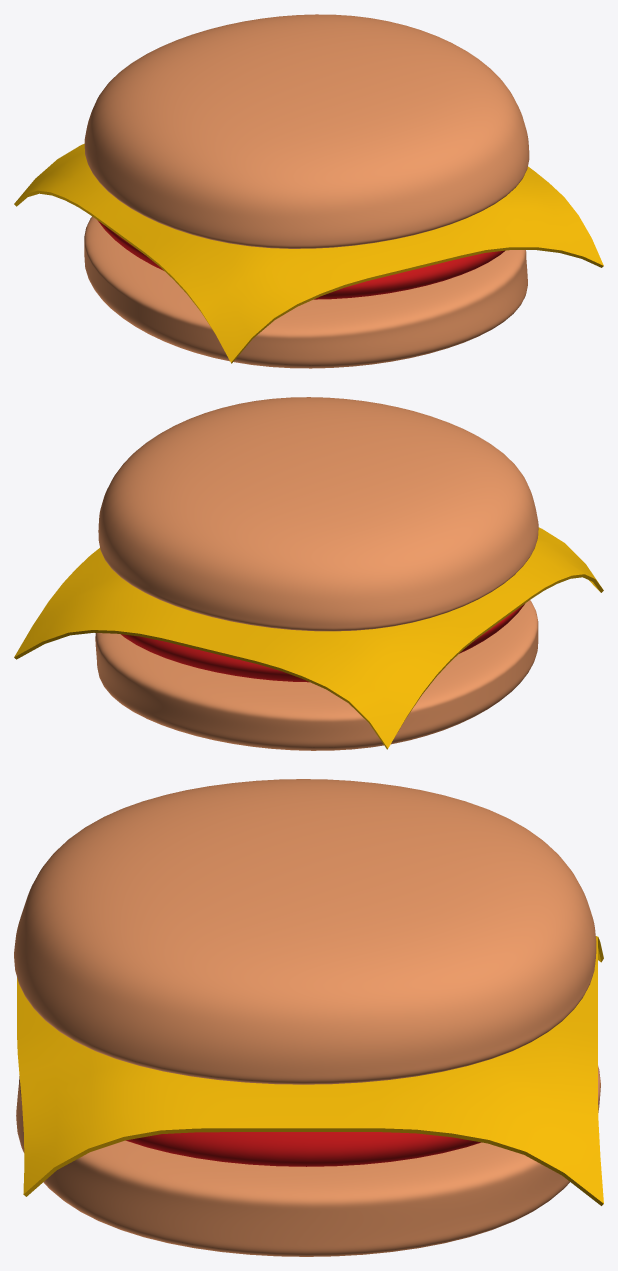
File: hamburger.glb
The picture shows the model from 3 angles, top to bottom: view 1: azimuth 30°, elevation 25°; view 2: azimuth 150°, elevation 25°; view 3: azimuth 270°, elevation 25°; orthographic projection. The views are drawn at different scales.
Visible parts, largest first — view 1: Cube.002, Plane, Cube, Cube.001; view 2: Cube.002, Plane, Cube, Cube.001; view 3: Cube.002, Plane, Cube, Cube.001.
Part boxes in pixels (left/top/right/bottom): Cube.002: left=84, top=14, right=529, bottom=248; Plane: left=14, top=143, right=603, bottom=363; Cube: left=84, top=216, right=527, bottom=368; Cube.001: left=97, top=220, right=504, bottom=299; Cube.002: left=98, top=397, right=538, bottom=631; Plane: left=14, top=527, right=603, bottom=749; Cube: left=95, top=600, right=538, bottom=750; Cube.001: left=121, top=604, right=524, bottom=682; Cube.002: left=14, top=779, right=596, bottom=1084; Plane: left=17, top=936, right=603, bottom=1205; Cube: left=16, top=1066, right=600, bottom=1256; Cube.001: left=125, top=1132, right=481, bottom=1166.
Bounding box in the file's own units: 9.29 × 5.19 × 9.28.
